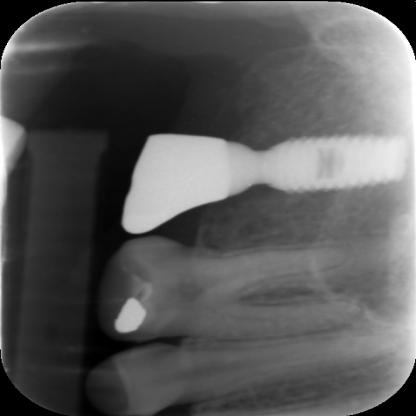Bicon: (269, 131, 404, 200)
